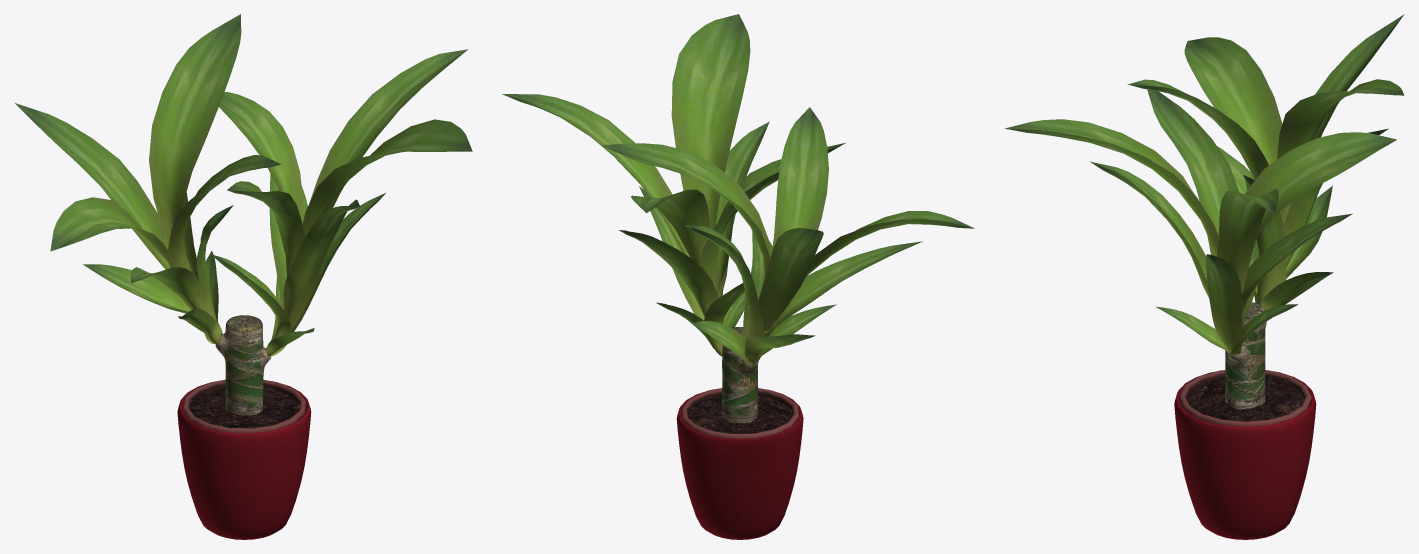
Rendered from indoor_plant_02_fbx.glb.
3 views of the same model, side by side, from view 1: azimuth 30°, elevation 25°; view 2: azimuth 150°, elevation 25°; view 3: azimuth 270°, elevation 25° (orthographic). The views are drawn at different scales.
Parts seen in each view (by area): view 1: indoor plant_02; view 2: indoor plant_02; view 3: indoor plant_02.
Part boxes in pixels (bbox=[...]): indoor plant_02: bbox=[15, 14, 472, 539]; indoor plant_02: bbox=[502, 14, 974, 539]; indoor plant_02: bbox=[1005, 14, 1404, 539].
Size of the model in its own units: 682 by 622 by 486.
4 materials, 4 textured.
